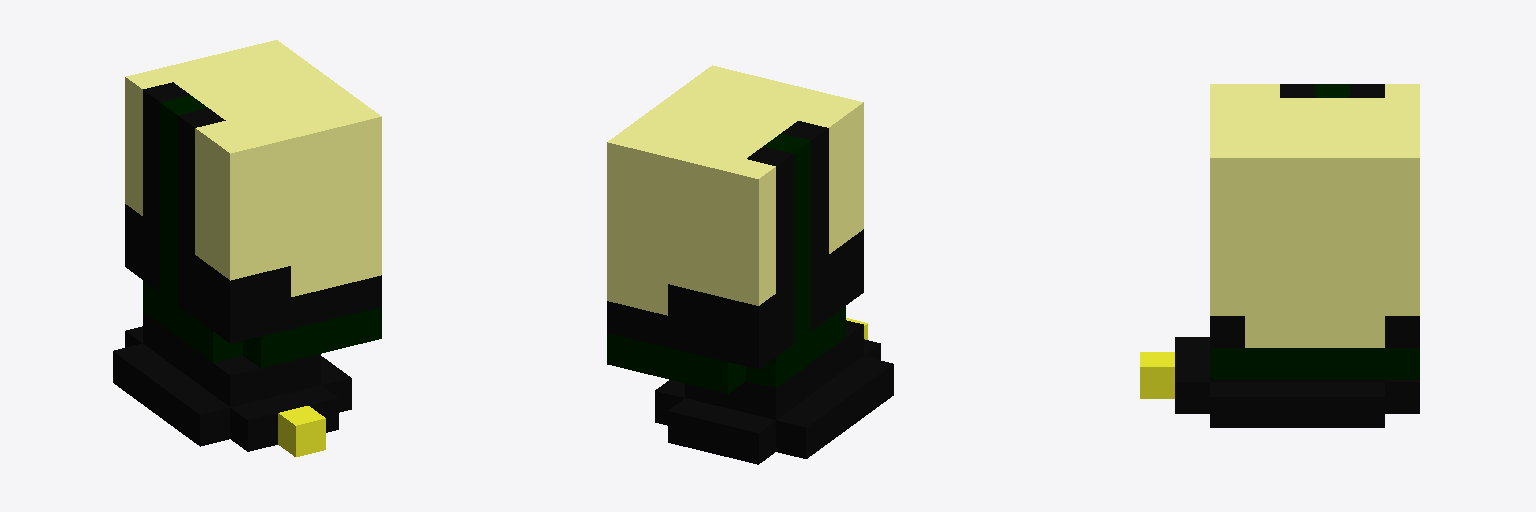
3 views of the same model, side by side, from view 1: azimuth 30°, elevation 25°; view 2: azimuth 150°, elevation 25°; view 3: azimuth 270°, elevation 25° (orthographic).
Parts seen in each view (by area): view 1: JooDeepier.001; view 2: JooDeepier.001; view 3: JooDeepier.001.
Boxes of the visible parts, <box> form: JooDeepier.001: <box>113,40,381,456</box>; JooDeepier.001: <box>607,65,893,464</box>; JooDeepier.001: <box>1140,84,1419,427</box>.
Bounding box in the file's own units: 0.6 × 0.9 × 0.8.
1 materials, 1 textured.